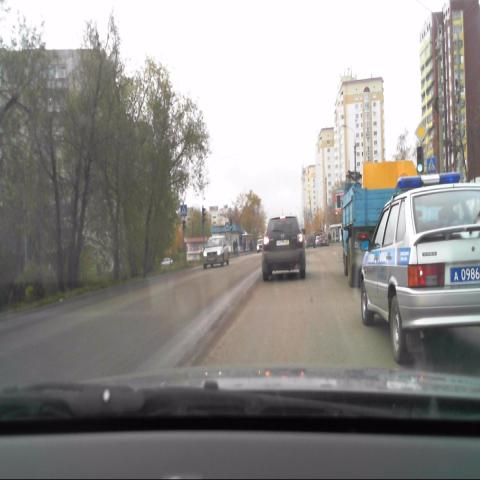2_1: (415, 119, 428, 144)
5_19_1: (426, 156, 438, 174)
